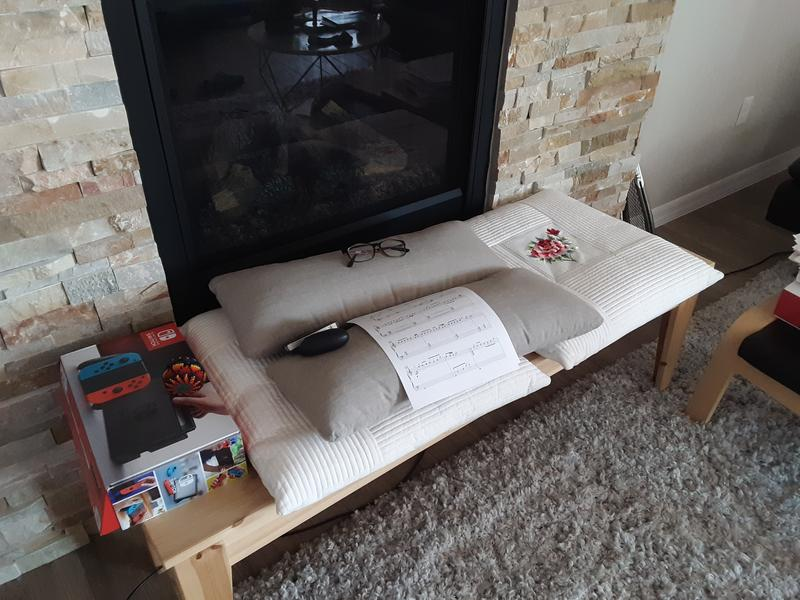glasses: (343, 238, 412, 268)
